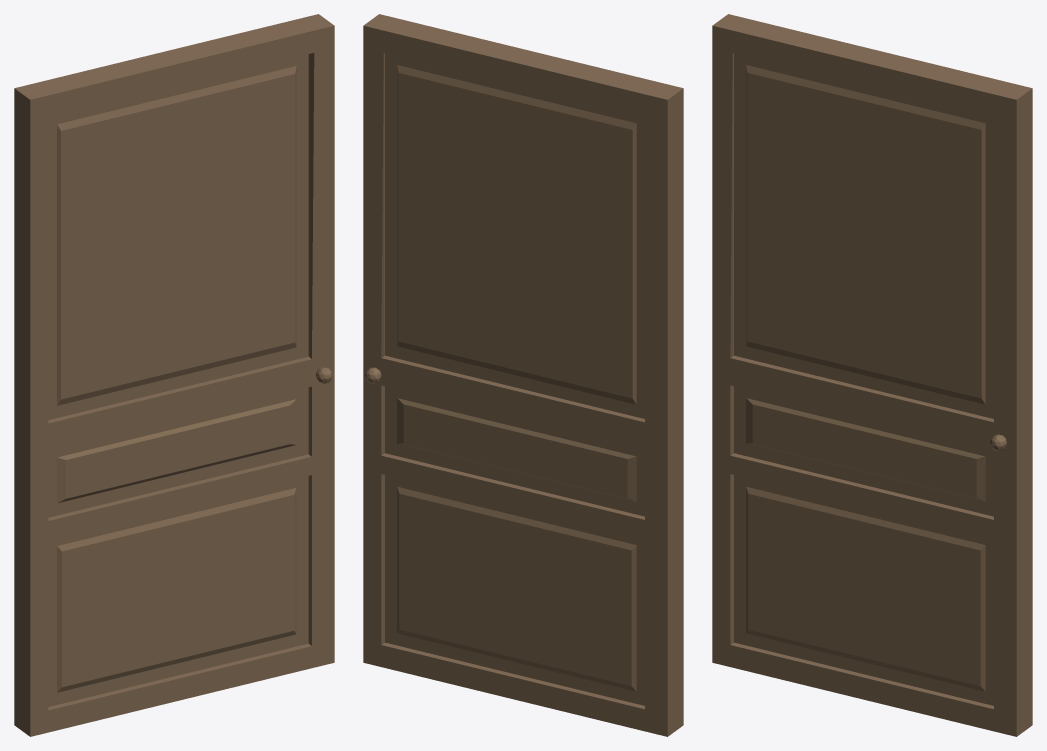
File: SM_door.glb
3 renders of one model, left to right at view 1: azimuth 30°, elevation 25°; view 2: azimuth 150°, elevation 25°; view 3: azimuth 330°, elevation 25°, orthographic.
Parts seen in each view (by area): view 1: SM_door; view 2: SM_door; view 3: SM_door.
Boxes of the visible parts, left/top/right/bottom form: SM_door: left=14, top=14, right=334, bottom=736; SM_door: left=363, top=14, right=683, bottom=736; SM_door: left=712, top=14, right=1032, bottom=736.
Bounding box in the file's own units: 1.1 × 2.2 × 0.2003.
